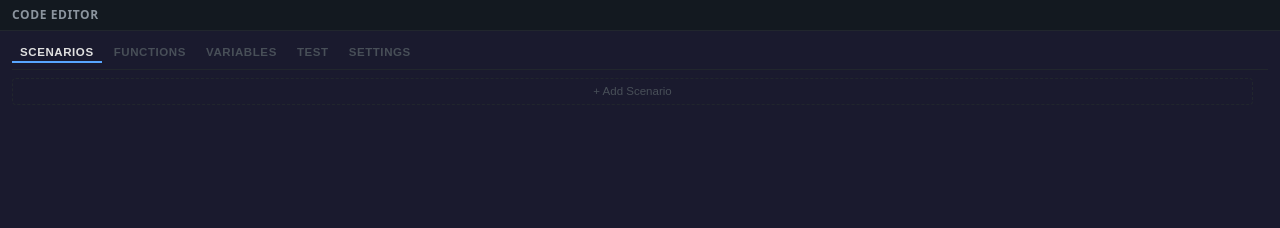
Test case: findDuplicateNames (via component behavior) › should detect duplicate variable names
This screenshot has width=1280, height=228.
What coordinates should you click on to do the following:
click the button "Variables"
I would click on:
 (241, 53)
Its box is [198, 43, 285, 63].
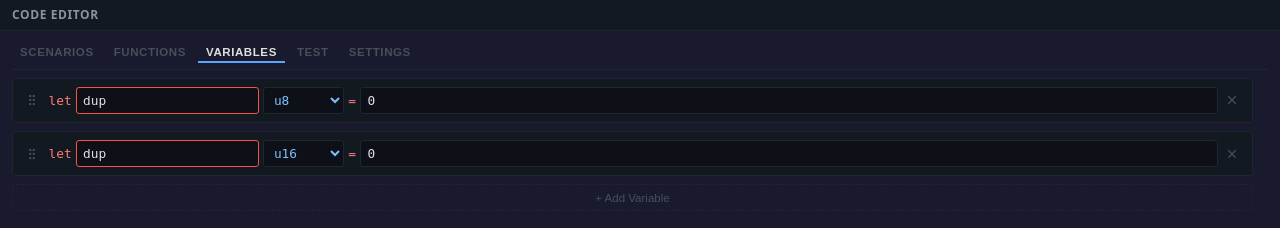
Check: the number of fields with class "input--error" is 2, box [76, 87, 258, 114]; [76, 140, 258, 167]
